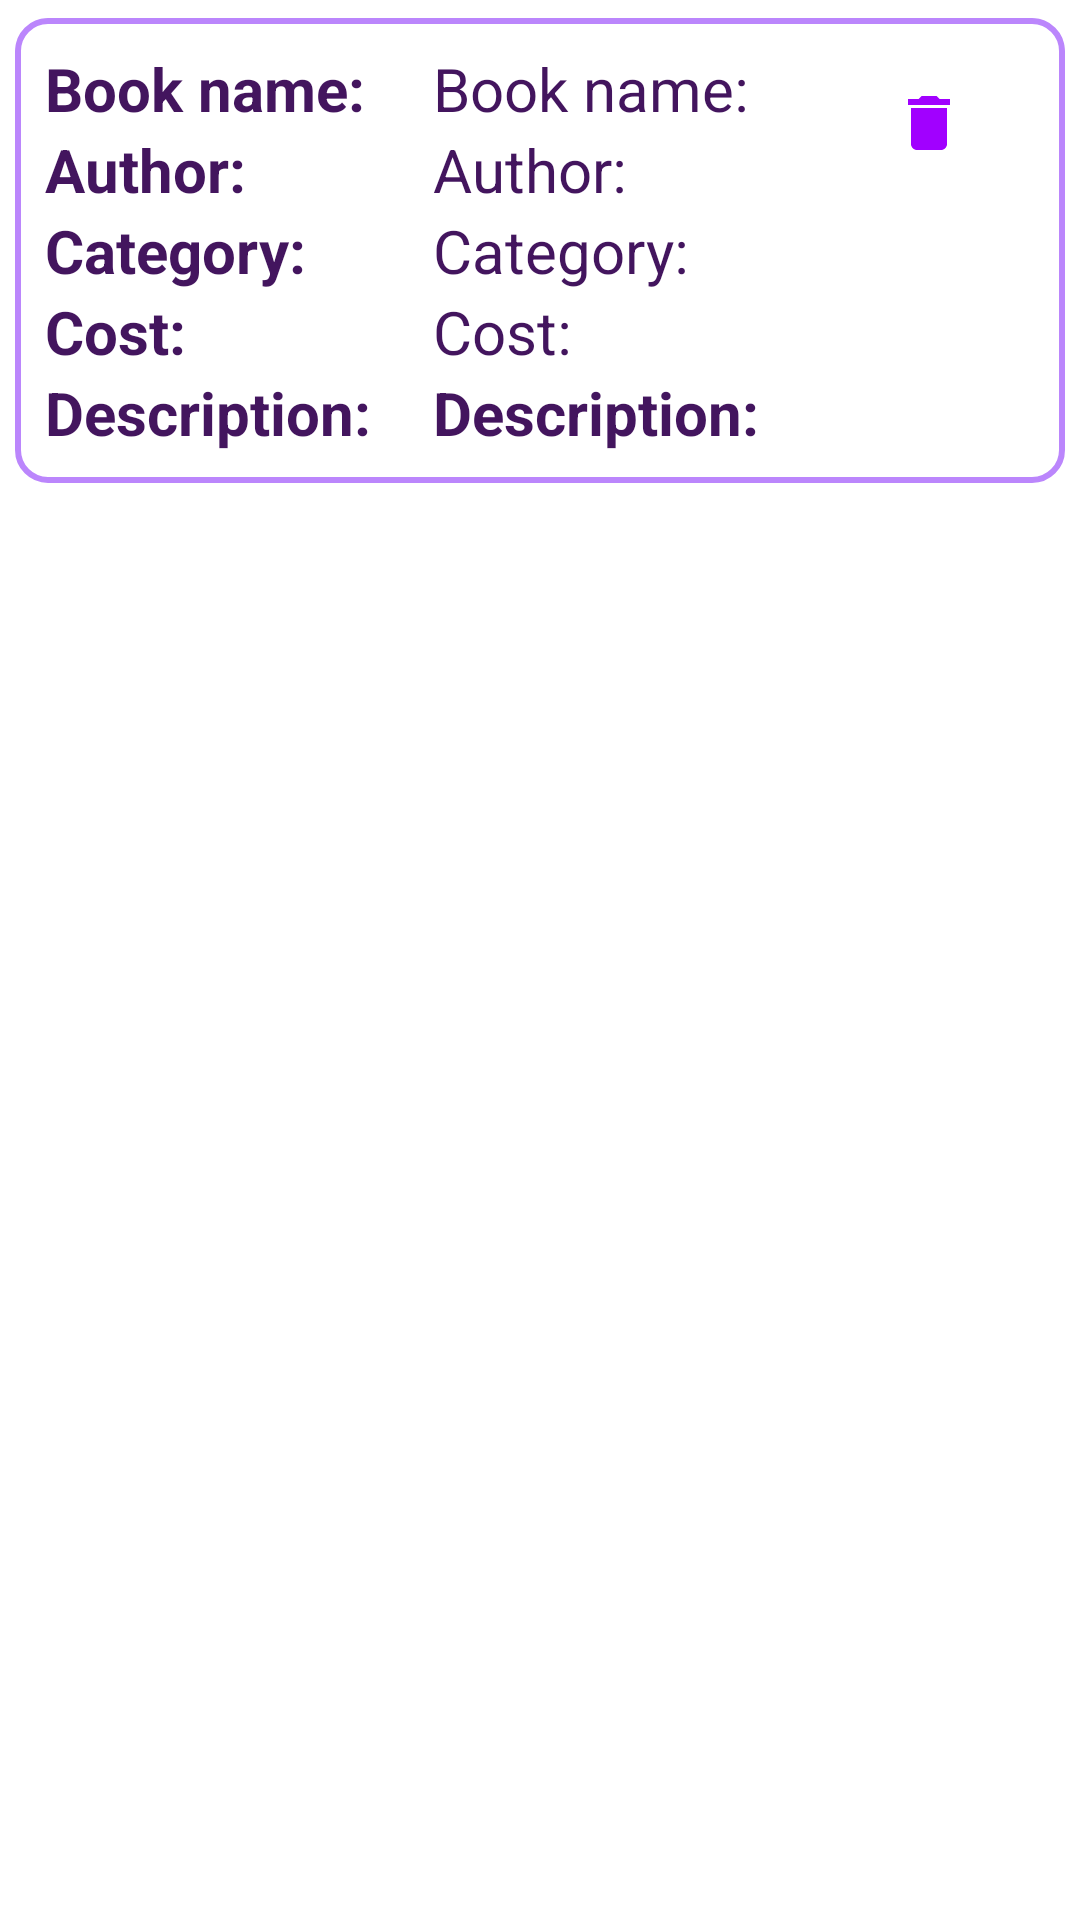

Where icons sit on this 1080x1920 app screen, as (x1, y1, x2, y2):
delete: (908, 96, 950, 150)
